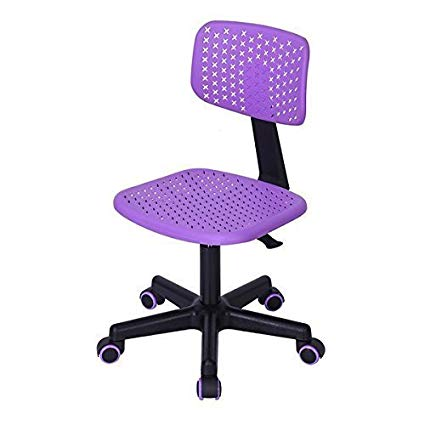chairs: (85, 19, 357, 404)
